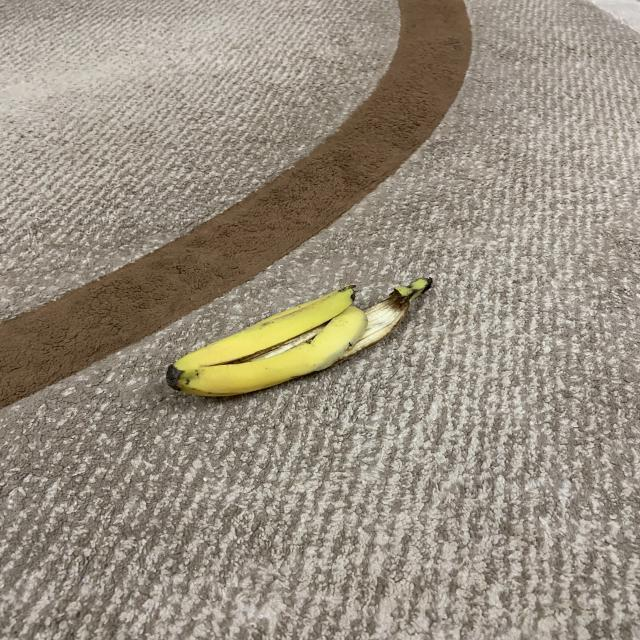banana-peel: (164, 275, 432, 398)
